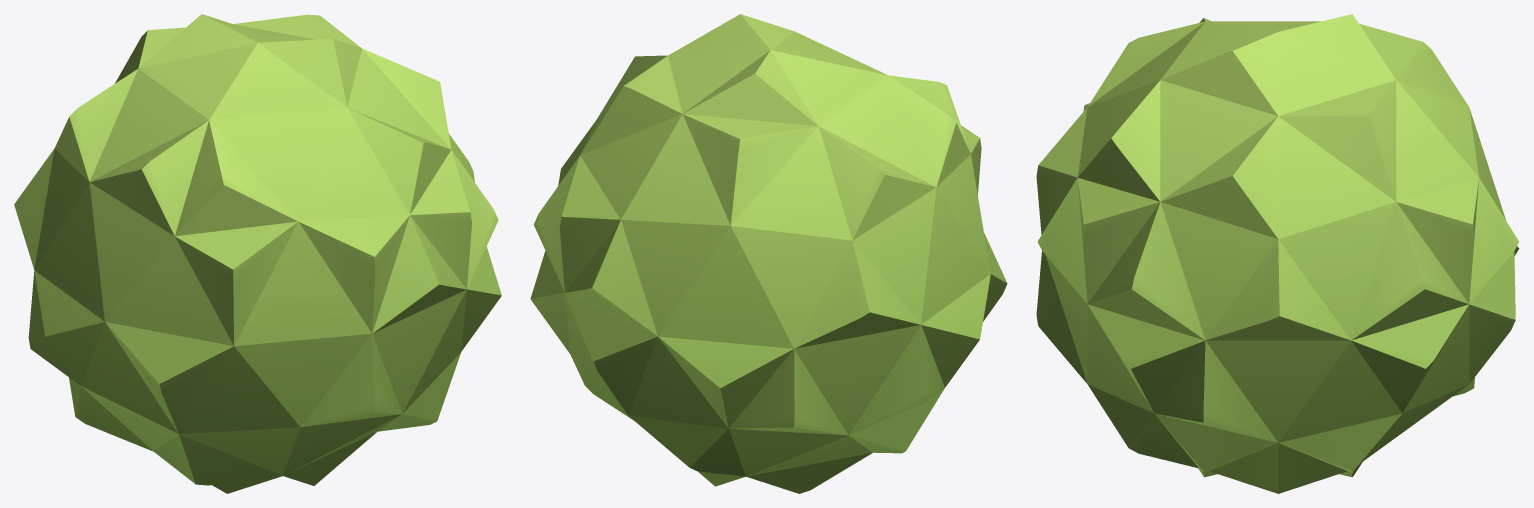
Rendered from Mota.fbx.
3 renders of one model, left to right at view 1: azimuth 30°, elevation 25°; view 2: azimuth 150°, elevation 25°; view 3: azimuth 270°, elevation 25°, orthographic. The views are drawn at different scales.
Visible parts, largest first — view 1: Icosphere.003; view 2: Icosphere.003; view 3: Icosphere.003.
Part boxes in pixels (bbox=[...]): Icosphere.003: bbox=[14, 14, 501, 493]; Icosphere.003: bbox=[530, 14, 1007, 493]; Icosphere.003: bbox=[1036, 14, 1519, 493].
Bounding box in the file's own units: 130 × 126 × 124.
